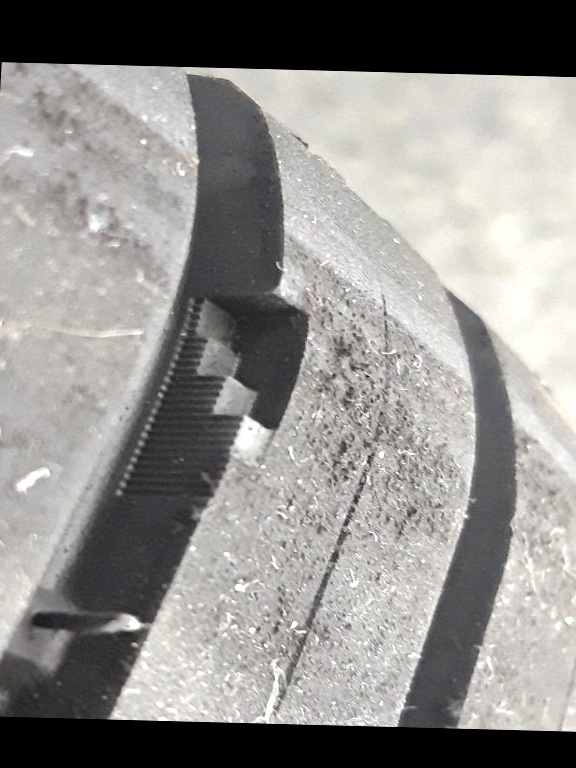temoin:75: (132, 277, 318, 482)
